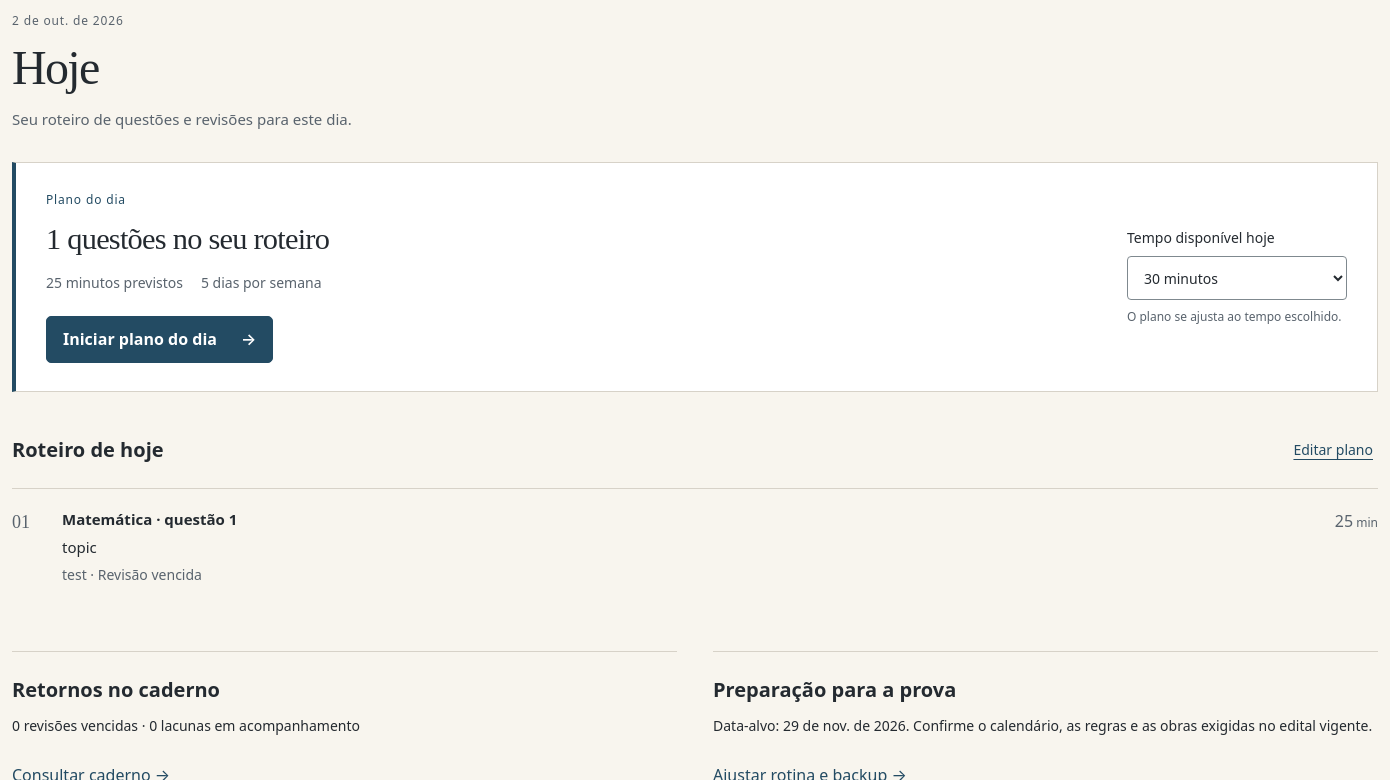
Test: excludes reserved and over-budget choices from manual additions
Click the button "Editar plano" at coordinates (1333, 450), box [1288,428,1378,472]
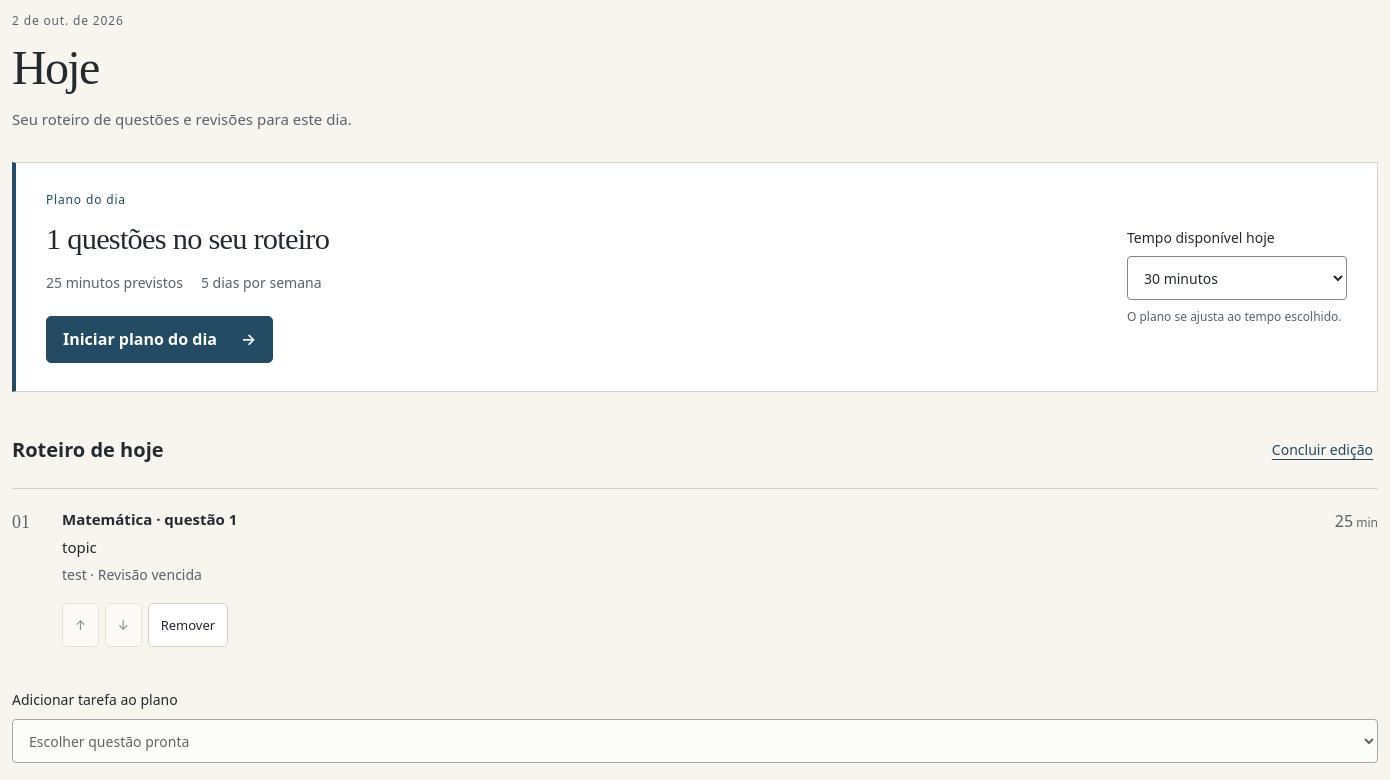
Now the dropdown labelled "Adicionar tarefa ao plano" is disabled, box [12,719,1378,763]
